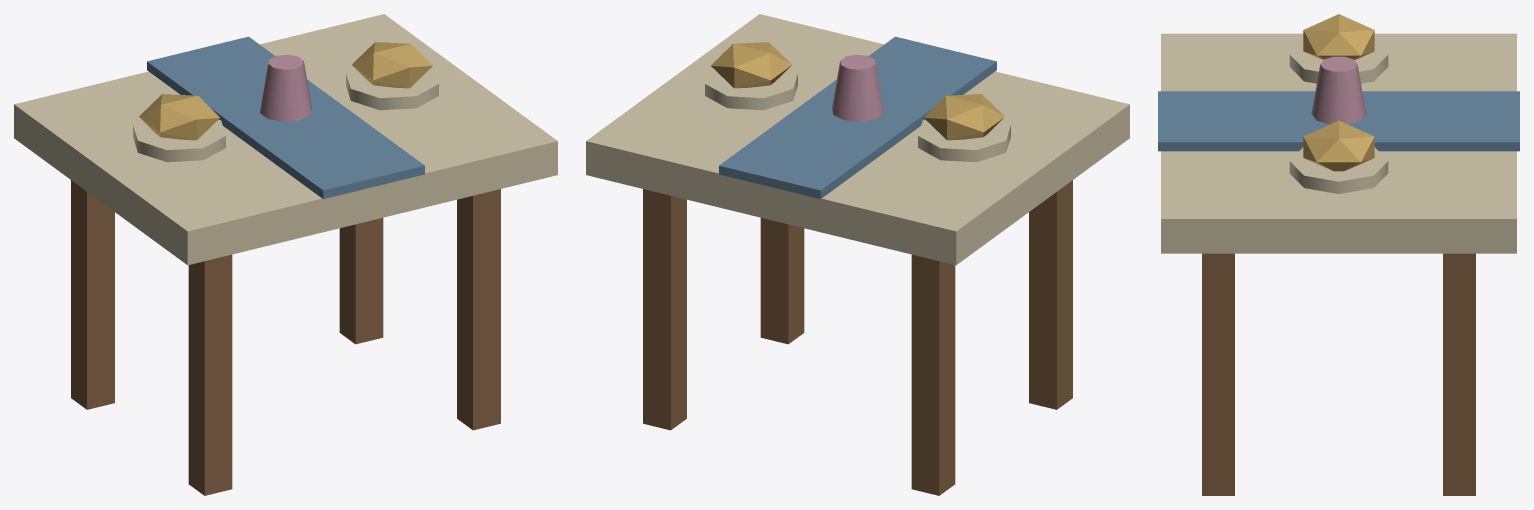
File: decoration-table.glb
3 views of the same model, side by side, from view 1: azimuth 30°, elevation 25°; view 2: azimuth 150°, elevation 25°; view 3: azimuth 270°, elevation 25° (orthographic). The views are drawn at different scales.
Parts seen in each view (by area): view 1: decoration-table-visual; view 2: decoration-table-visual; view 3: decoration-table-visual.
Part boxes in pixels (<box>): decoration-table-visual: <box>14,14,557,495</box>; decoration-table-visual: <box>586,14,1129,495</box>; decoration-table-visual: <box>1158,14,1519,495</box>.
Size of the model in its own units: 0.8 by 0.72 by 0.66.
